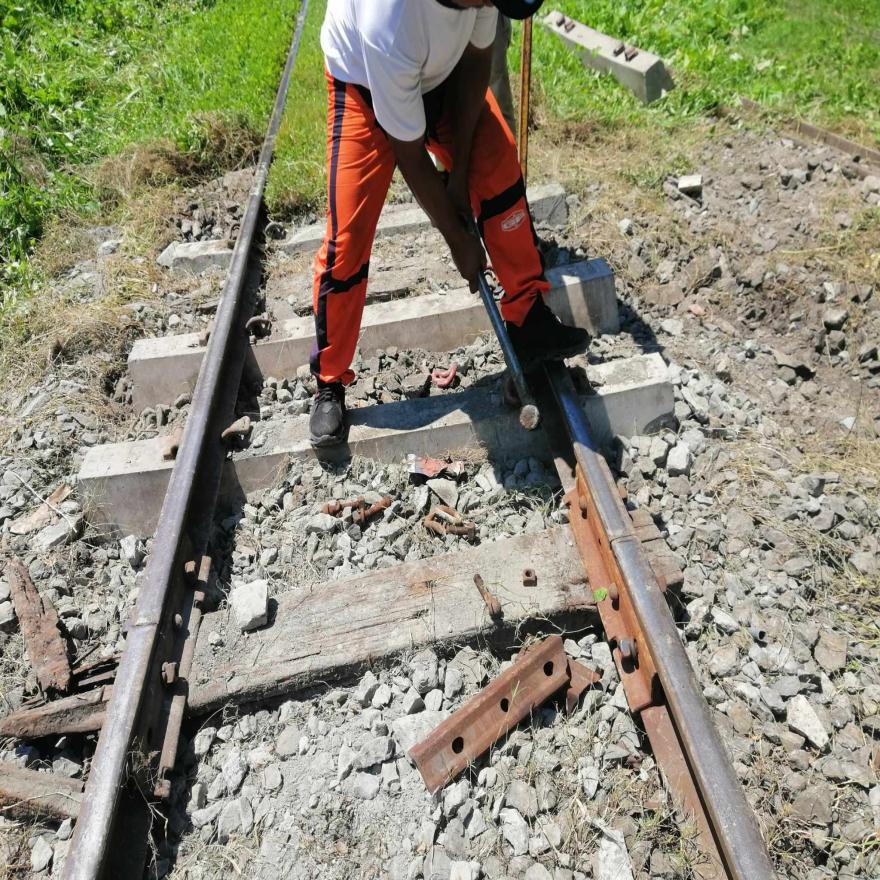railway-gap: (585, 497, 662, 584), (111, 587, 169, 661)
